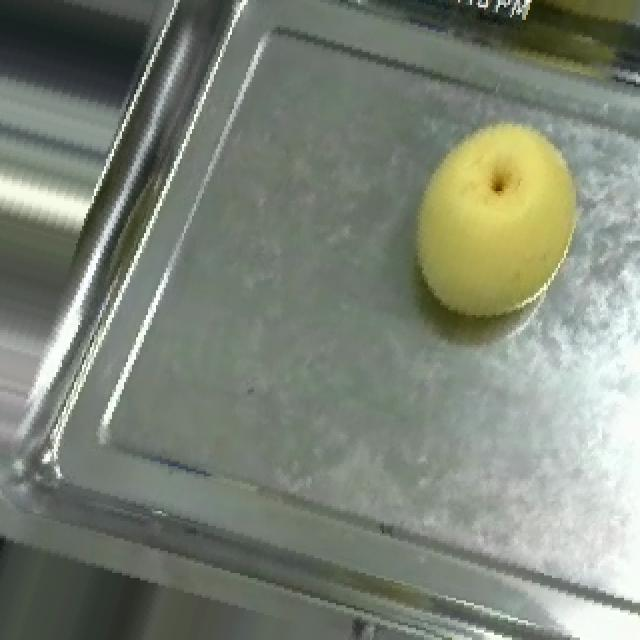Fruit: (374, 87, 610, 350)
